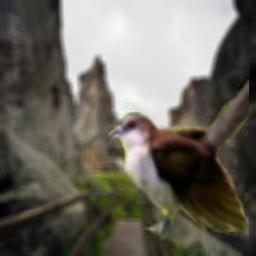Cuckoo: (106, 31, 249, 241)
